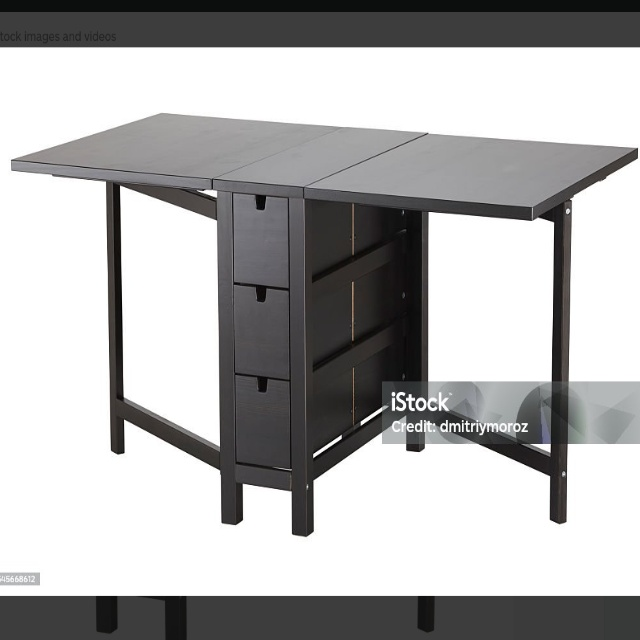obstacle: (8, 106, 633, 538)
